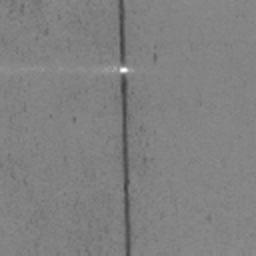Scratches: (120, 75, 132, 256), (118, 0, 126, 64)
